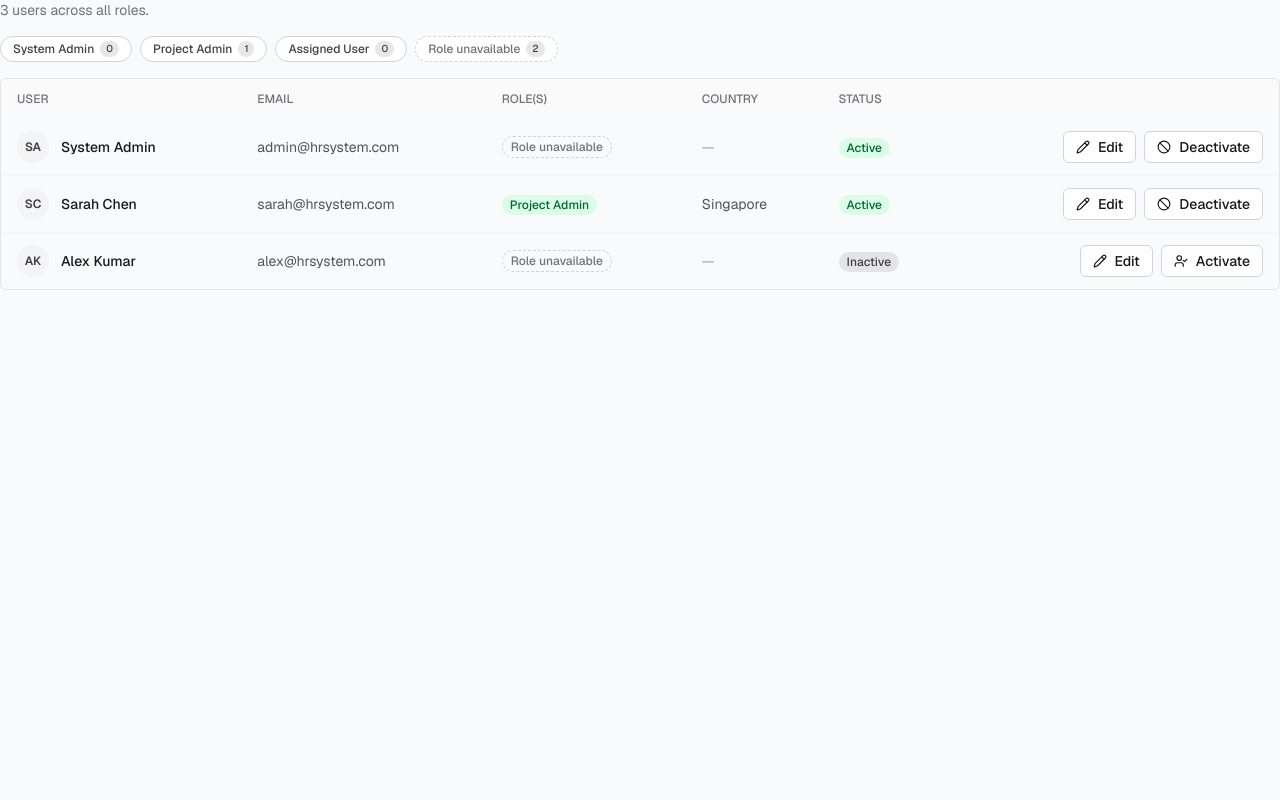
it: UsersTable › opens the edit modal for a row when its Edit action is clicked
Click the button "Edit" in the row of "SC" at (1100, 204), box [1063, 188, 1136, 220]
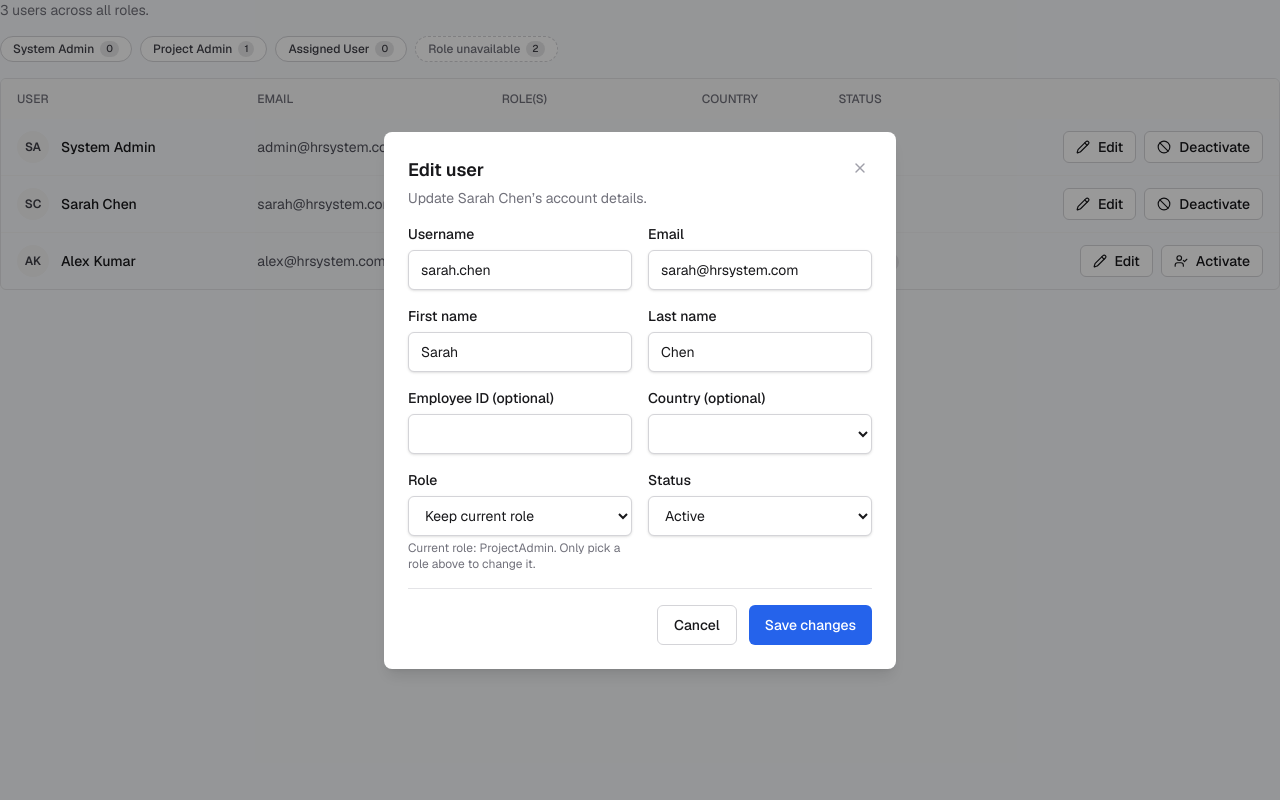
Now the dialog is shown, box [384, 132, 896, 668]
Now the heading "Edit user" is shown, box [408, 158, 484, 180]
